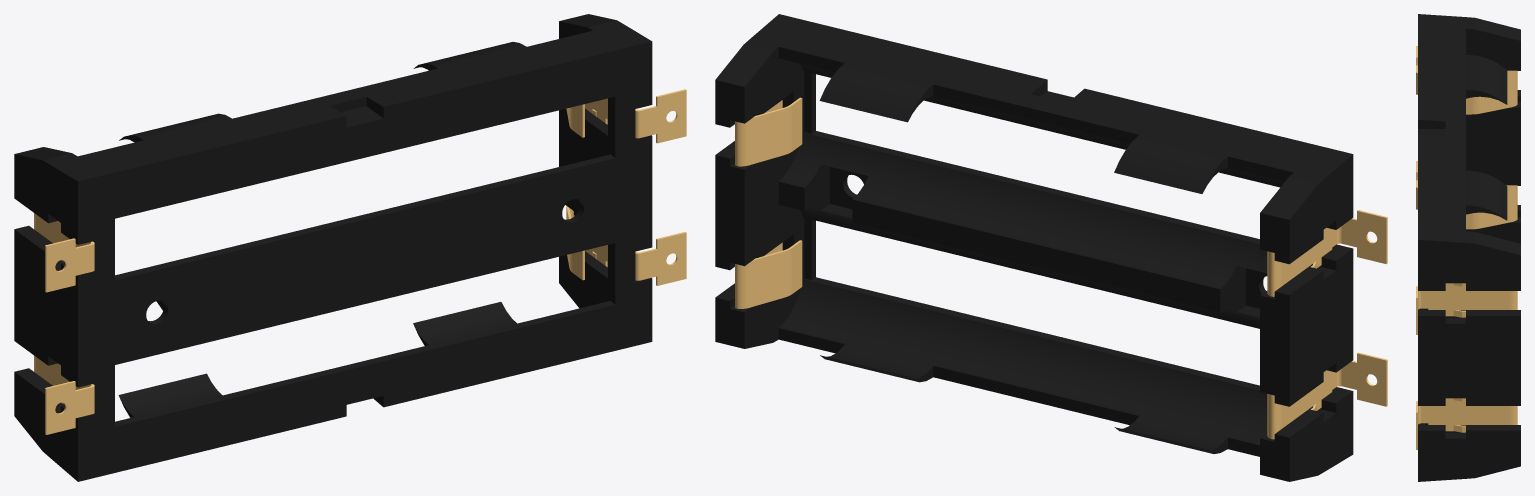
3 renders of one model, left to right at view 1: azimuth 30°, elevation 25°; view 2: azimuth 150°, elevation 25°; view 3: azimuth 270°, elevation 25°, orthographic. The views are drawn at different scales.
Parts seen in each view (by area): view 1: Battery Holder, Battery-Holder_Metal-Lead, Battery-Holder_Metal-Lead001, Battery-Holder_Metal-Lead002, Battery-Holder_Metal-Lead003; view 2: Battery Holder, Battery-Holder_Metal-Lead002, Battery-Holder_Metal-Lead003, Battery-Holder_Metal-Lead, Battery-Holder_Metal-Lead001; view 3: Battery Holder, Battery-Holder_Metal-Lead, Battery-Holder_Metal-Lead001, Battery-Holder_Metal-Lead003, Battery-Holder_Metal-Lead002.
Part boxes in pixels (x1=…): Battery Holder: x1=14, y1=14, x2=652, y2=481; Battery-Holder_Metal-Lead: x1=566, y1=89, x2=686, y2=143; Battery-Holder_Metal-Lead001: x1=566, y1=206, x2=686, y2=285; Battery-Holder_Metal-Lead002: x1=34, y1=355, x2=94, y2=434; Battery-Holder_Metal-Lead003: x1=34, y1=213, x2=94, y2=292; Battery Holder: x1=715, y1=14, x2=1353, y2=481; Battery-Holder_Metal-Lead002: x1=1267, y1=352, x2=1387, y2=439; Battery-Holder_Metal-Lead003: x1=1267, y1=210, x2=1387, y2=296; Battery-Holder_Metal-Lead: x1=735, y1=97, x2=802, y2=166; Battery-Holder_Metal-Lead001: x1=735, y1=240, x2=802, y2=308; Battery Holder: x1=1418, y1=14, x2=1520, y2=481; Battery-Holder_Metal-Lead: x1=1416, y1=283, x2=1517, y2=334; Battery-Holder_Metal-Lead001: x1=1416, y1=398, x2=1517, y2=449; Battery-Holder_Metal-Lead003: x1=1416, y1=46, x2=1517, y2=114; Battery-Holder_Metal-Lead002: x1=1416, y1=161, x2=1517, y2=229.
Size of the model in its own units: 8.7 by 3.9 by 1.53.
